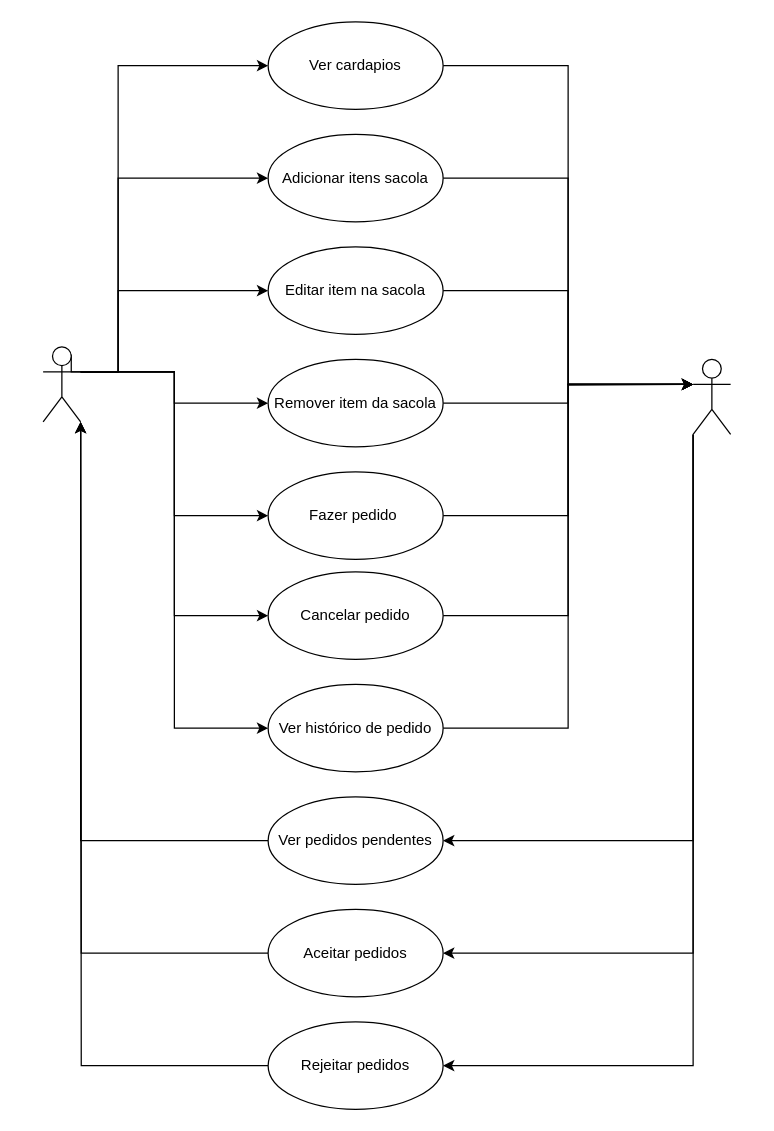
Some shapes in this 774 by 1131 pixel diagram are drawn without their labels. The shapes that lost their labels are listed below. From the top down, each one's centre as x and y in pixels, then its label:
(61,384): Consumidor
(711,396): Restaurante
